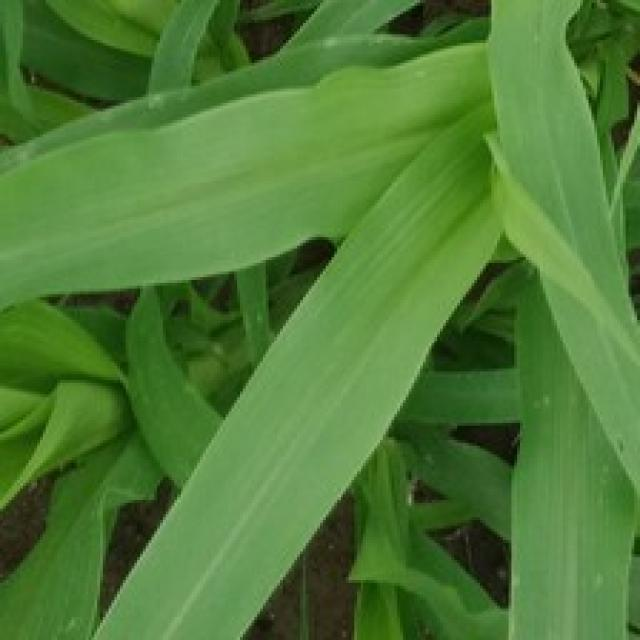Corn: (0, 0, 637, 637), (480, 0, 637, 546)
